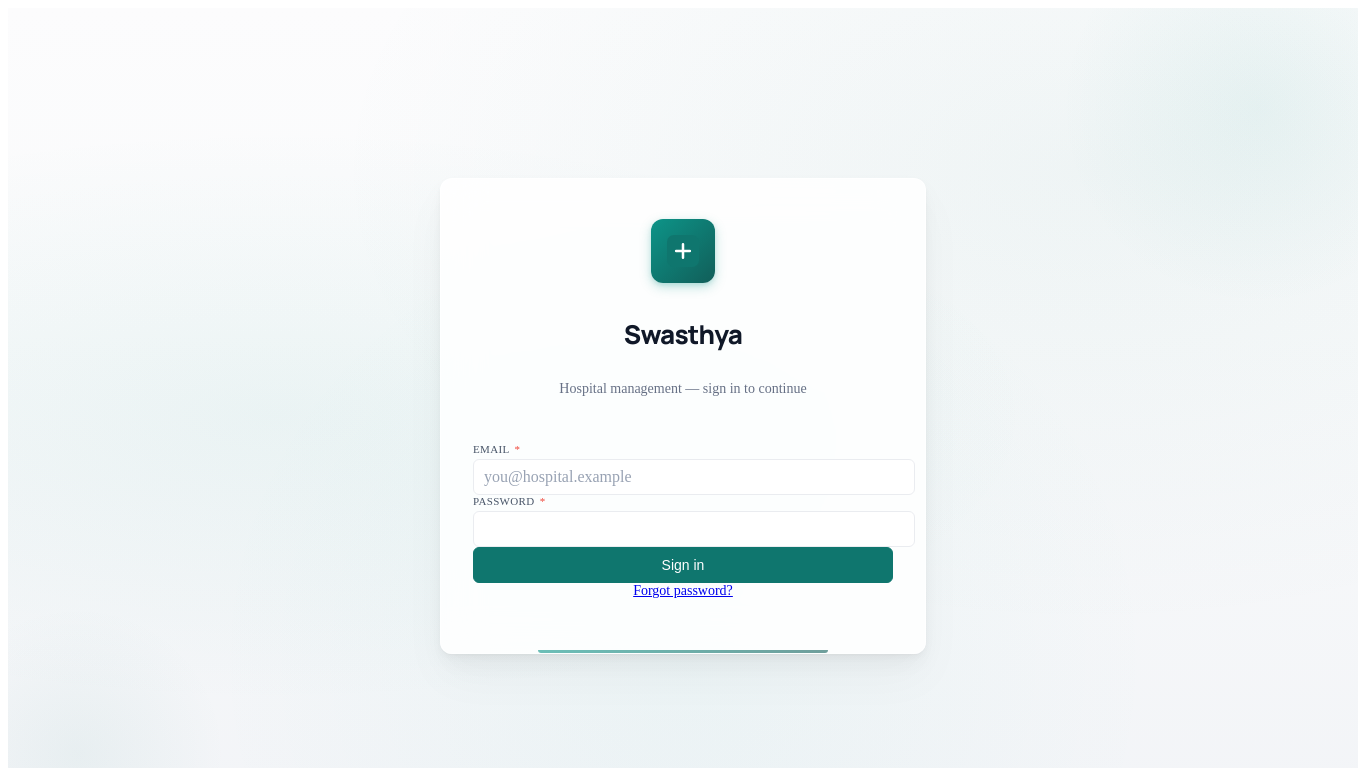
Test: LoginPage › maps a 401 to a user-facing error message
Type "a@b.test" into the field labelled "Email *". click: (694, 477)
box: [473,459,915,495]
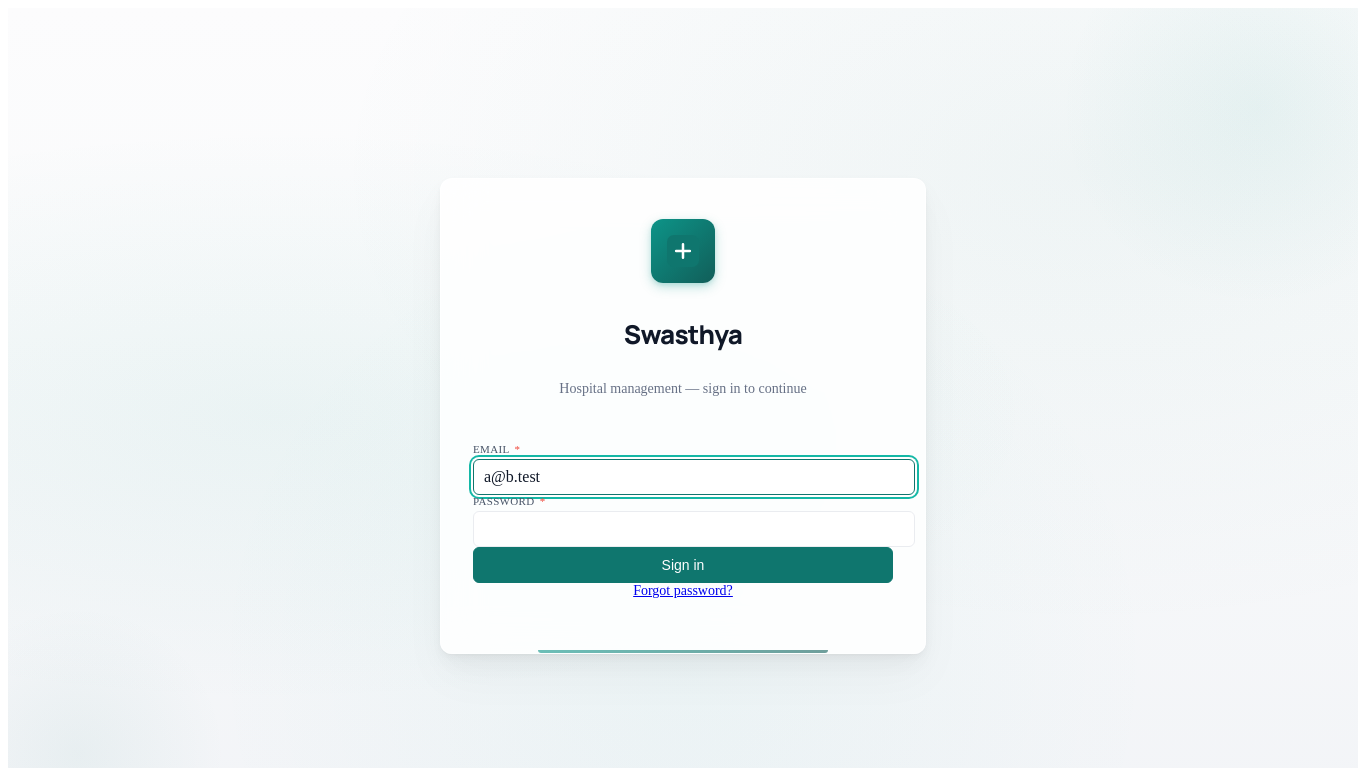
Type "wrong" into the password field labelled "Password *". click: (694, 529)
box: [473,511,915,547]
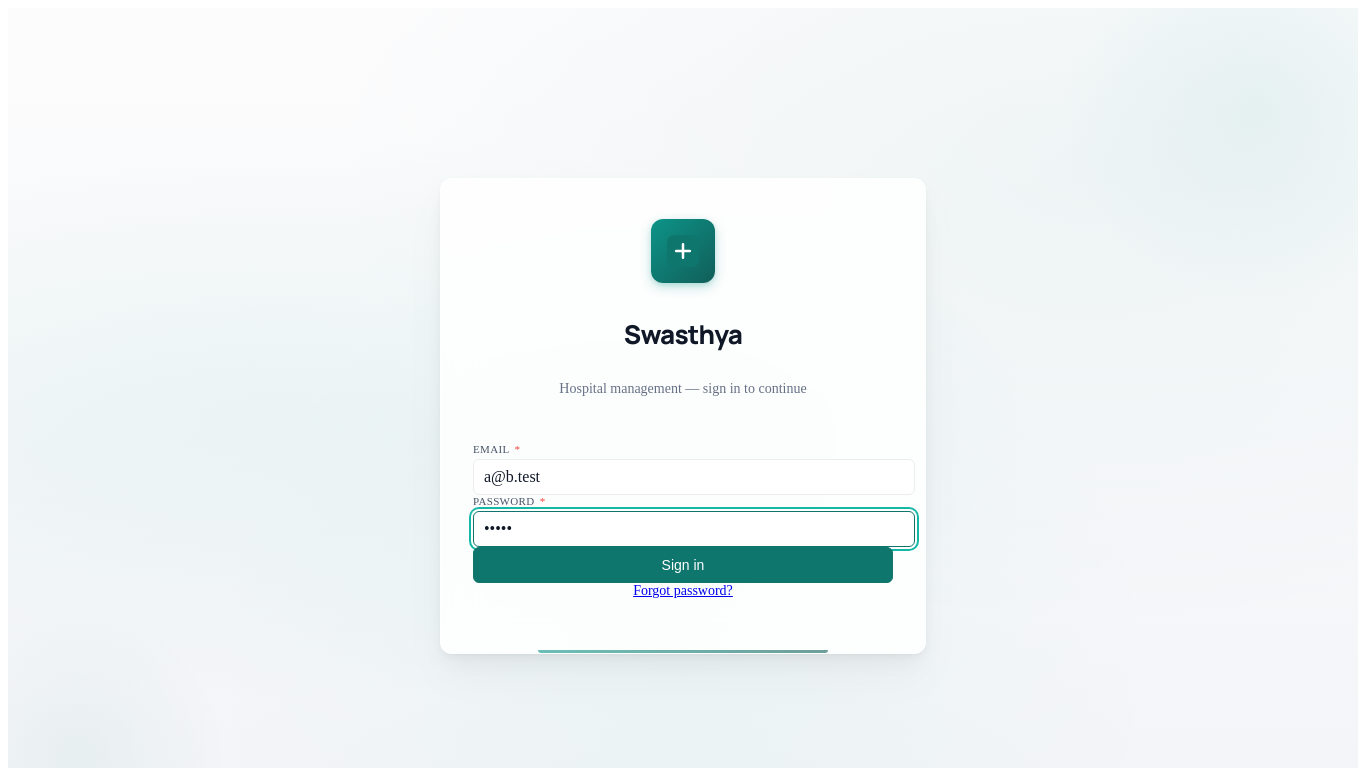
Click the button "Sign in". click: (683, 565)
box: [473,547,893,583]
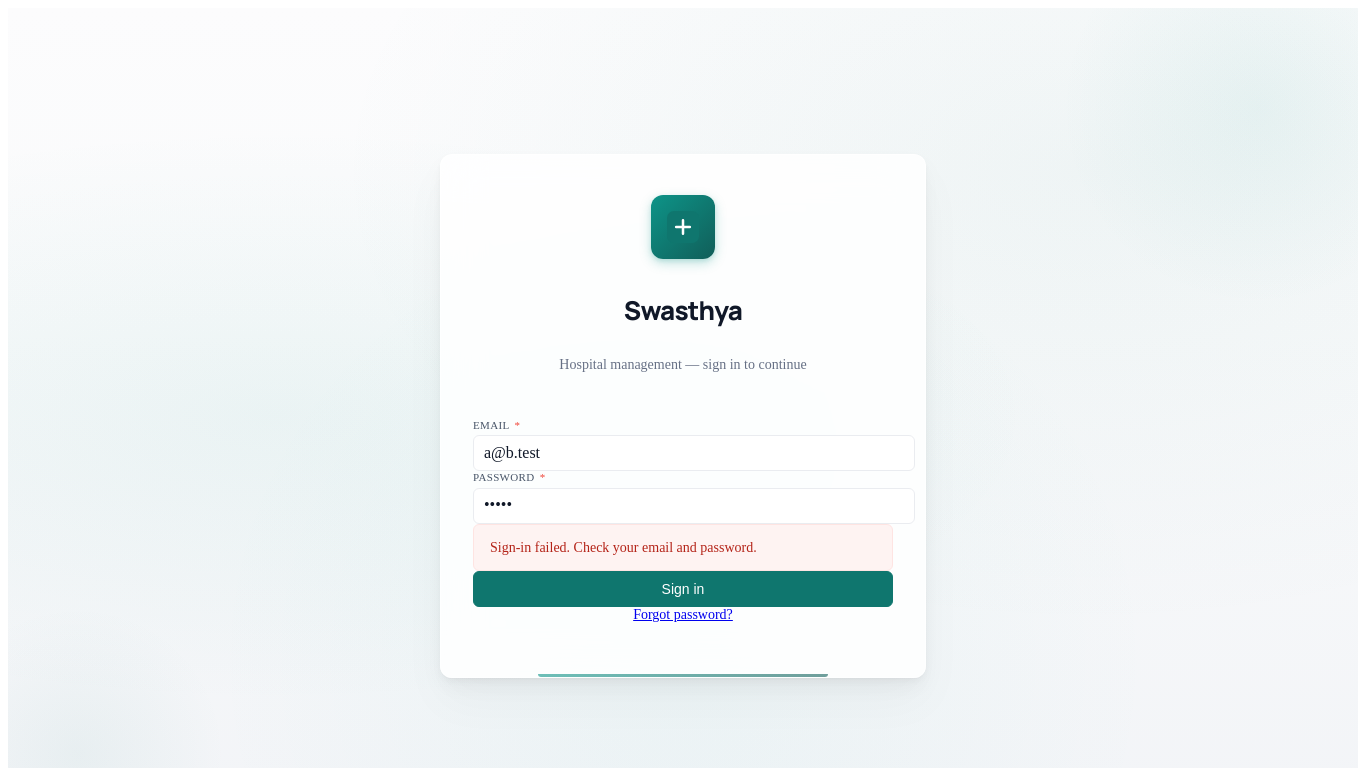
Result: the message shows "Sign-in failed" at [490,540,757,555]
